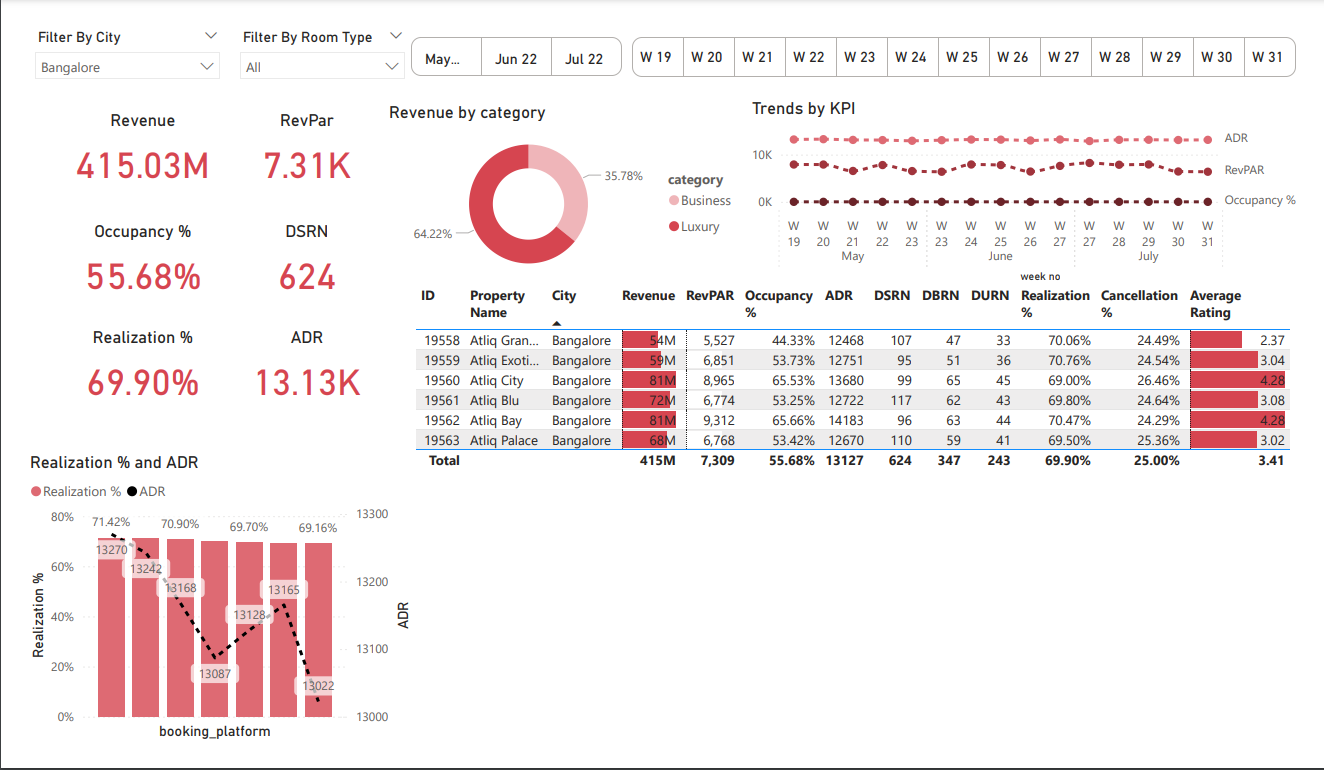

The dashboard page shown, as its layout file describes it:
{"tool":"powerbi","page":{"name":"Page 1","canvas":[1280,720],"ordinal":0},"visuals":[{"type":"tableEx","fields":{"Values":["Dim_hotel.property_id","Dim_hotel.property_name","Dim_hotel.city","Key_measures (2).Revenue","Key_measures (2).RevPAR","Key_measures (2).Occupancy %","Key_measures (2).ADR","Key_measures (2).DSRN","Key_measures (2).DBRN","Key_measures (2).DURN","Key_measures (2).Realization %","Key_measures (2).Cancellation %"]},"box":[390.1,256.3,890.2,456.7],"z":0},{"type":"slicer","title":"Filter by City","fields":{"Values":["Dim_hotel.city"]},"box":[0,0,205,65],"z":1000},{"type":"slicer","title":"Filter by Room Type","fields":{"Values":["Dim_rooms.room_class"]},"box":[205,0,185,65],"z":2000},{"type":"advancedSlicerVisual","fields":{"Values":["Dim_date.mmm yy"]},"box":[381,8,221,49],"z":3000},{"type":"advancedSlicerVisual","fields":{"Values":["Dim_date.week no"]},"box":[602,8,678,50],"z":4000},{"type":"card","title":"Revenue","fields":{"Values":["Key_measures (2).Revenue"]},"box":[41,78,154,97],"z":5000},{"type":"card","title":"DSRN","fields":{"Values":["Key_measures (2).DSRN"]},"box":[205,189,154,97],"z":6000},{"type":"card","title":"Occupancy %","fields":{"Values":["Key_measures (2).Occupancy %"]},"box":[41,189,154,97],"z":7000},{"type":"card","title":"RevPar","fields":{"Values":["Key_measures (2).RevPAR"]},"box":[205,78,154,97],"z":8000},{"type":"card","title":"ADR","fields":{"Values":["Key_measures (2).ADR"]},"box":[205,295,154,97],"z":9000},{"type":"card","title":"Realization %","fields":{"Values":["Key_measures (2).Realization %"]},"box":[41,295,154,97],"z":10000},{"type":"donutChart","fields":{"Y":["Key_measures (2).Revenue"],"Series":["Dim_hotel.category"]},"box":[359,78,363,185],"z":11000},{"type":"lineChart","title":"Trends by KPI","fields":{"Category":["Dim_date.mmm yy.Variation.Date Hierarchy.Month","Dim_date.week no"],"Y":["Key_measures (2).RevPAR","Key_measures (2).ADR","Key_measures (2).Occupancy %"]},"box":[722,74,558,189],"z":12000},{"type":"lineStackedColumnComboChart","title":"Realization % and ADR","fields":{"Category":["fact_booking.booking_platform"],"Y":["Key_measures (2).Realization %"],"Y2":["Key_measures (2).ADR"]},"box":[0,428,390,292],"z":13000}]}

Visuals, with their boxes on the page's 1280x720 design canvas (x1, y1, x2, y2). These are canvas units, not pixel positions in the 1324x770 screenshot, which may show the page scaled, cropped or inside an application window:
tableEx - Dim_hotel.property_id x Dim_hotel.property_name: (390,256,1280,713)
"Filter by City" slicer: (0,0,205,65)
"Filter by Room Type" slicer: (205,0,390,65)
advancedSlicerVisual - Dim_date.mmm yy: (381,8,602,57)
advancedSlicerVisual - Dim_date.week no: (602,8,1280,58)
"Revenue" card: (41,78,195,175)
"DSRN" card: (205,189,359,286)
"Occupancy %" card: (41,189,195,286)
"RevPar" card: (205,78,359,175)
"ADR" card: (205,295,359,392)
"Realization %" card: (41,295,195,392)
donutChart - Key_measures (2).Revenue x Dim_hotel.category: (359,78,722,263)
"Trends by KPI" lineChart: (722,74,1280,263)
"Realization % and ADR" lineStackedColumnComboChart: (0,428,390,720)
